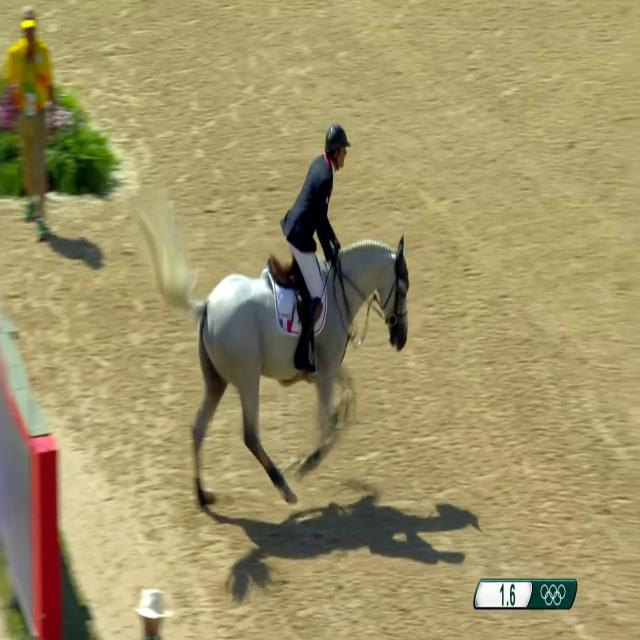Horse Rider: (275, 70, 354, 368)
Horse Running: (111, 169, 442, 516)
